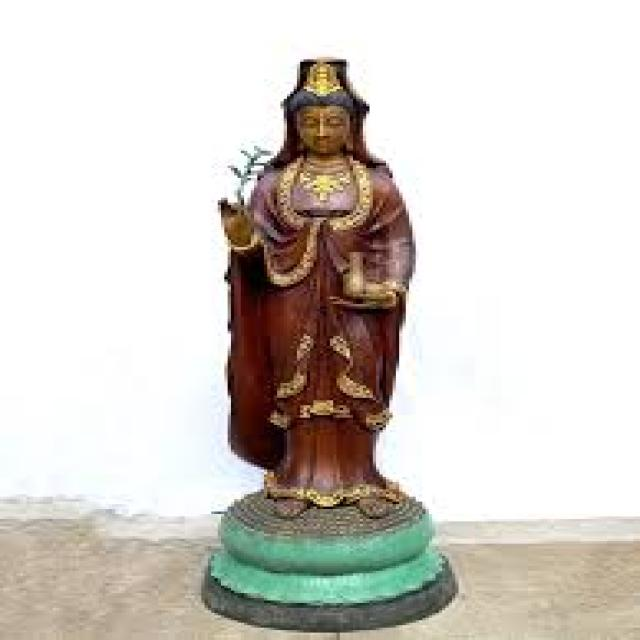Guan Yin: (212, 56, 416, 467)
